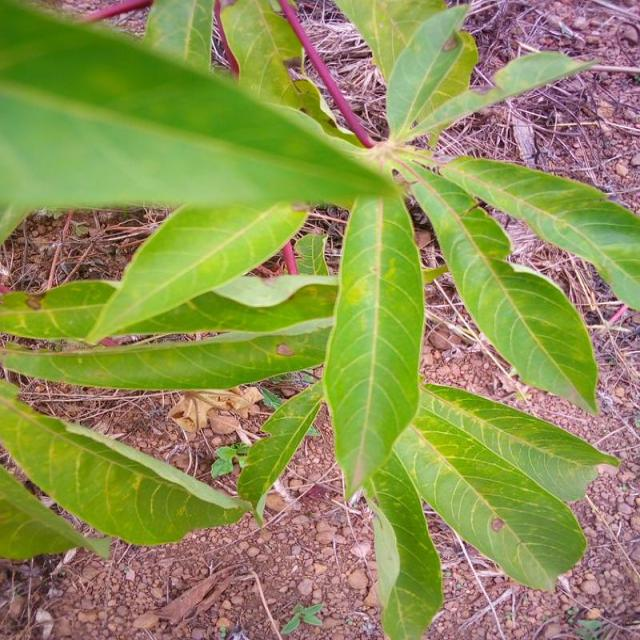cassava leaf: (1, 0, 637, 637), (321, 187, 425, 502)
